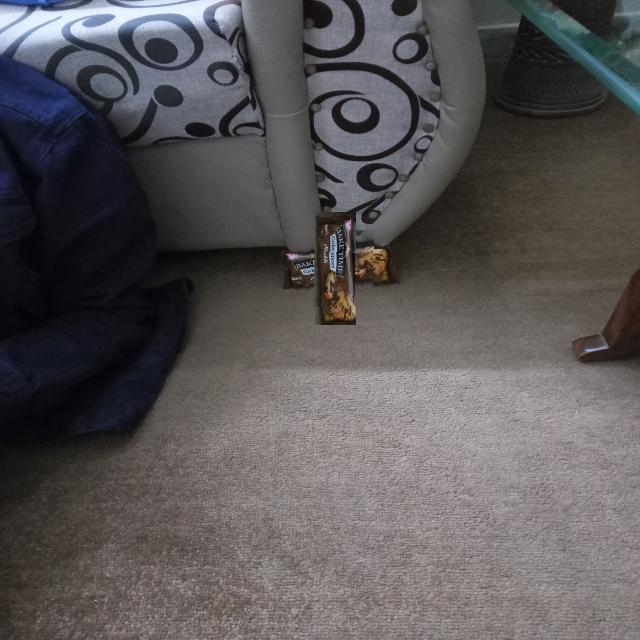Plastic: (297, 230, 374, 308)
